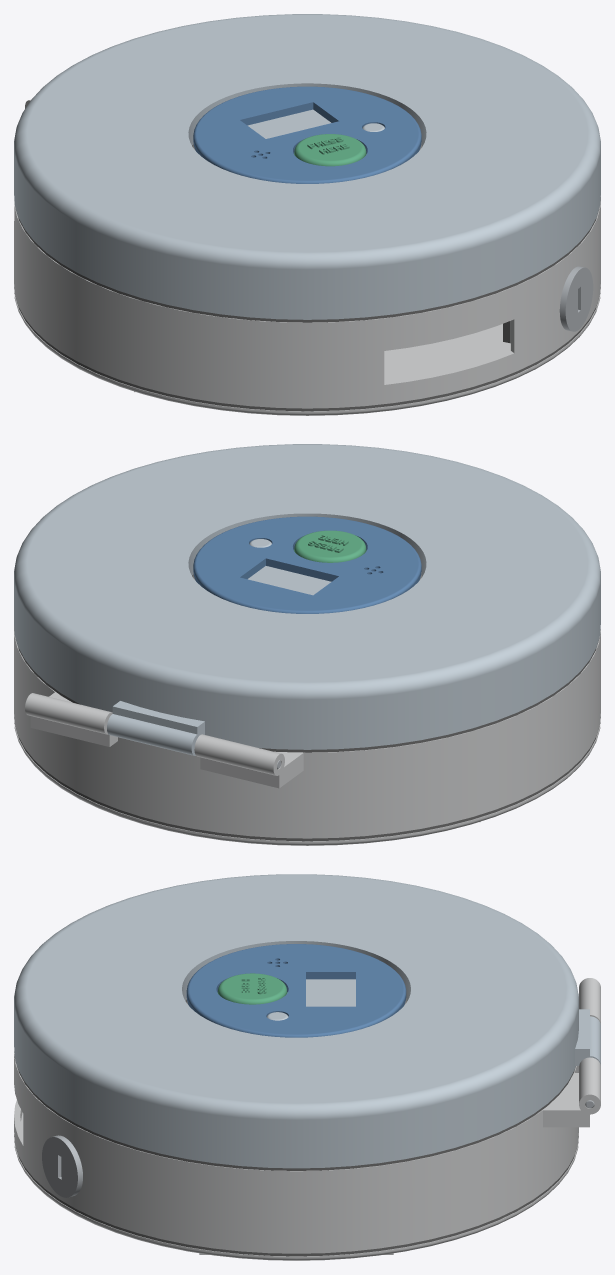
File: step_06.glb
The picture shows the model from 3 angles, top to bottom: view 1: azimuth 30°, elevation 25°; view 2: azimuth 150°, elevation 25°; view 3: azimuth 270°, elevation 25°; orthographic projection. The views are drawn at different scales.
Parts seen in each view (by area): view 1: part__lid, part__chassis, part__pod cap, part__bottom cover, part__lid gasket, part__PRESS HERE button, part__base gasket, part__pharmacy lock, part__display window; view 2: part__lid, part__chassis, part__pod cap, part__bottom cover, part__PRESS HERE button, part__base gasket, part__lid gasket, part__display window; view 3: part__lid, part__chassis, part__pod cap, part__bottom cover, part__pharmacy lock, part__base gasket, part__PRESS HERE button, part__lid gasket, part__display window.
Boxes of the visible parts, x1,y1,x2,y2 form: part__lid: (14,14,600,319); part__chassis: (14,100,600,408); part__pod cap: (193,86,421,183); part__bottom cover: (14,284,600,415); part__lid gasket: (15,209,599,322); part__PRESS HERE button: (294,134,366,166); part__base gasket: (15,296,599,411); part__pharmacy lock: (559,266,593,331); part__display window: (247,109,330,138); part__lid: (14,444,600,755); part__chassis: (14,626,600,838); part__pod cap: (193,516,421,613); part__bottom cover: (14,714,600,845); part__PRESS HERE button: (294,530,366,562); part__base gasket: (15,726,599,841); part__lid gasket: (15,638,599,752); part__display window: (248,566,331,595); part__lid: (14,874,600,1168); part__chassis: (14,978,600,1253); part__pod cap: (186,944,406,1037); part__bottom cover: (14,1112,578,1260); part__pharmacy lock: (42,1135,82,1197); part__base gasket: (15,1146,577,1256); part__PRESS HERE button: (217,973,287,1004); part__lid gasket: (15,1060,575,1170); part__display window: (306,979,355,1006).
Size of the model in its own units: 180 by 58.6 by 187.
